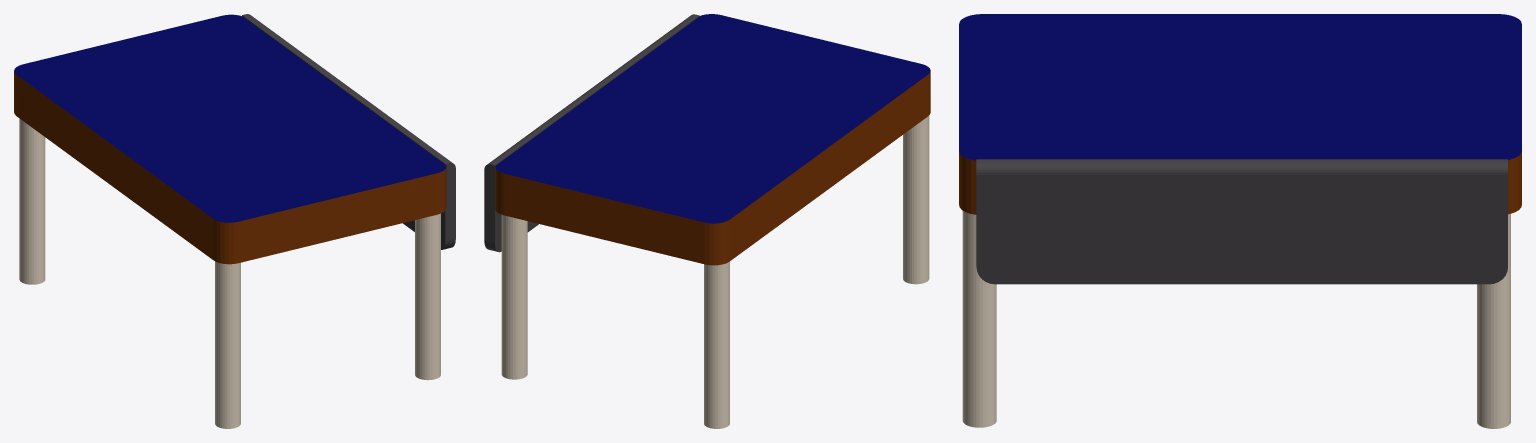
Rendered from mesa.fbx.
3 renders of one model, left to right at view 1: azimuth 30°, elevation 25°; view 2: azimuth 150°, elevation 25°; view 3: azimuth 270°, elevation 25°, orthographic. The views are drawn at different scales.
Visible parts, largest first — view 1: Cube, Cylinder.002, Cube.001; view 2: Cube, Cylinder.002, Cube.001; view 3: Cube, Cube.001, Cylinder.002.
Part boxes in pixels (box(x1,y1,x2,y2)): Cube: box(14, 14, 446, 264); Cylinder.002: box(19, 118, 440, 428); Cube.001: box(242, 14, 455, 249); Cube: box(495, 14, 930, 265); Cylinder.002: box(501, 115, 929, 428); Cube.001: box(484, 14, 699, 252); Cube: box(959, 14, 1521, 214); Cube.001: box(976, 159, 1507, 284); Cylinder.002: box(962, 211, 1510, 428).
Bounding box in the file's own units: 129 × 107 × 200.
